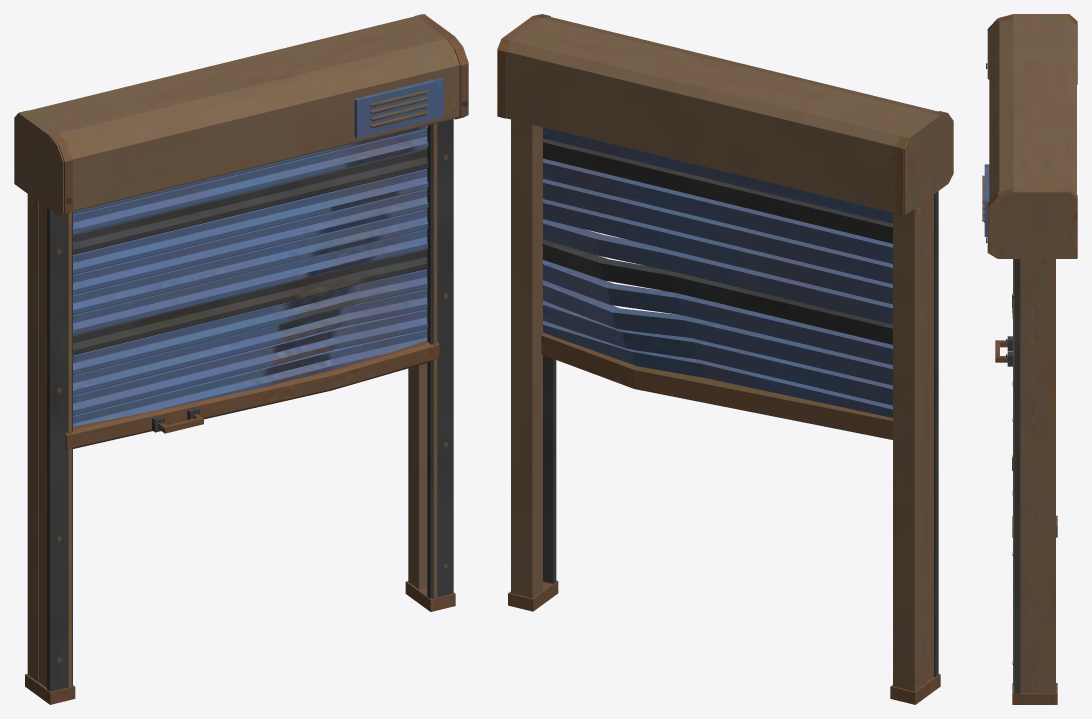
Rendered from W14_shop_shutter_v2.glb.
The picture shows the model from 3 angles, left to right: view 1: azimuth 30°, elevation 25°; view 2: azimuth 150°, elevation 25°; view 3: azimuth 270°, elevation 25°; orthographic projection. The views are drawn at different scales.
Parts seen in each view (by area): view 1: Shop shutter; view 2: Shop shutter; view 3: Shop shutter.
Boxes of the visible parts, box(x1,y1,x2,y2) form: Shop shutter: box(14, 14, 468, 704); Shop shutter: box(497, 14, 953, 704); Shop shutter: box(982, 14, 1077, 704).
Size of the model in its own units: 2.24 by 3 by 0.506.
Materials: 5 (5 with a texture image).
